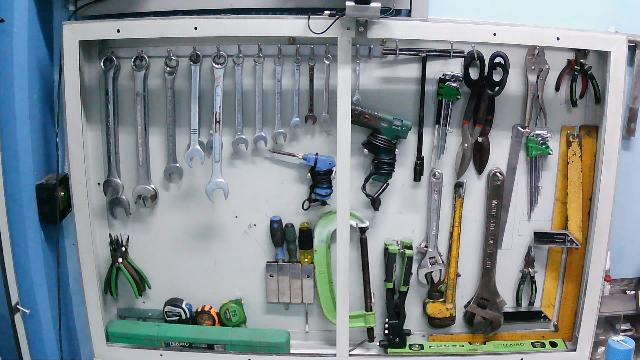gun_lem: (351, 105, 417, 213)
